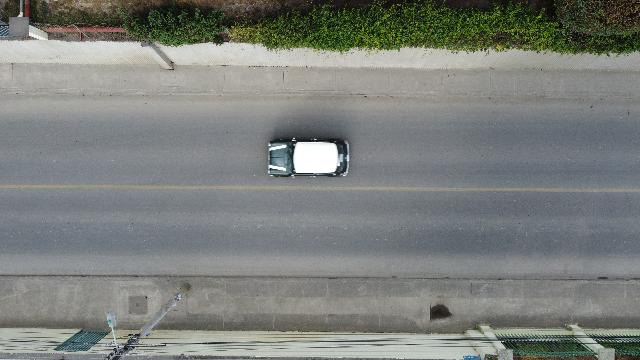Vehiculo: (267, 138, 349, 178)
